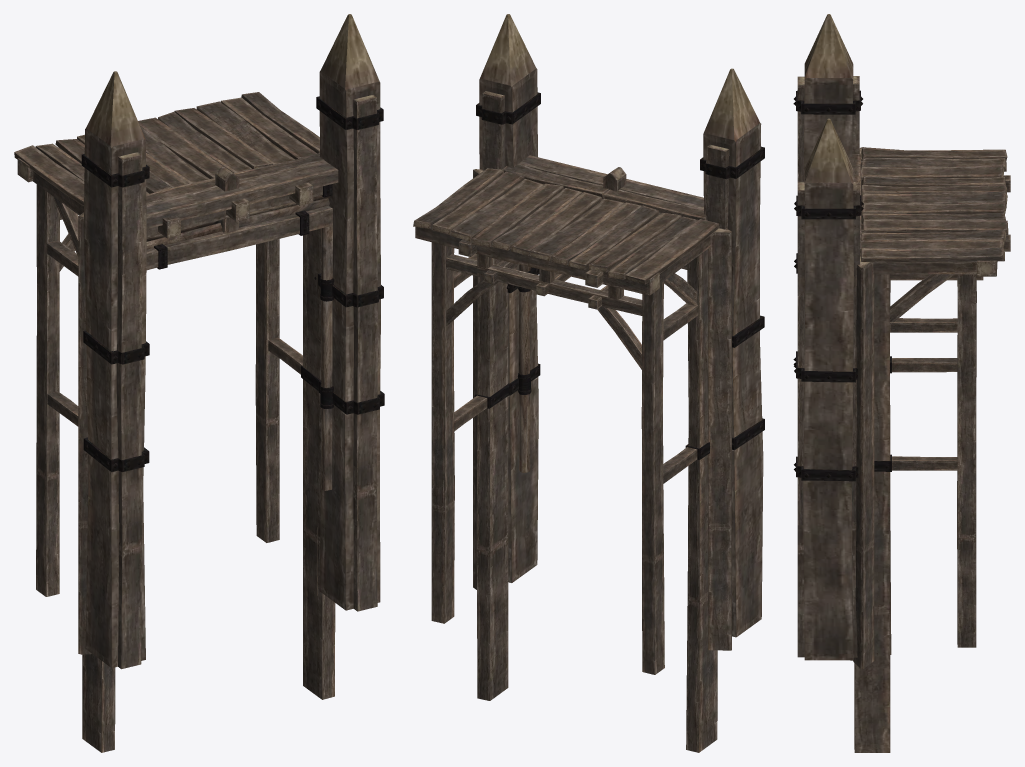
Rendered from jav_struc_def_ironwood_or_gateframe_a-transformed.glb.
3 views of the same model, side by side, from view 1: azimuth 30°, elevation 25°; view 2: azimuth 150°, elevation 25°; view 3: azimuth 270°, elevation 25° (orthographic). The views are drawn at different scales.
Parts seen in each view (by area): view 1: default; view 2: default; view 3: default.
Boxes of the visible parts, x1,y1,x2,y2 form: default: [14, 14, 384, 752]; default: [413, 14, 764, 752]; default: [793, 14, 1010, 752].
Size of the model in its own units: 4.67 by 11.08 by 3.44.
1 material, 1 textured.
